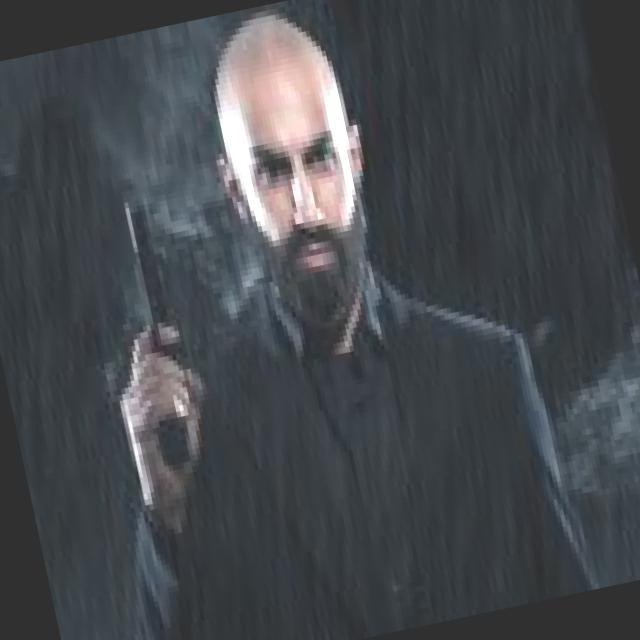handgun: (83, 158, 239, 487)
